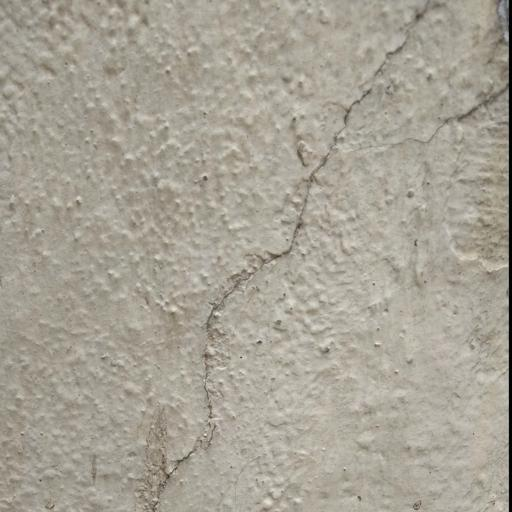minor_crack: (142, 0, 512, 512)
